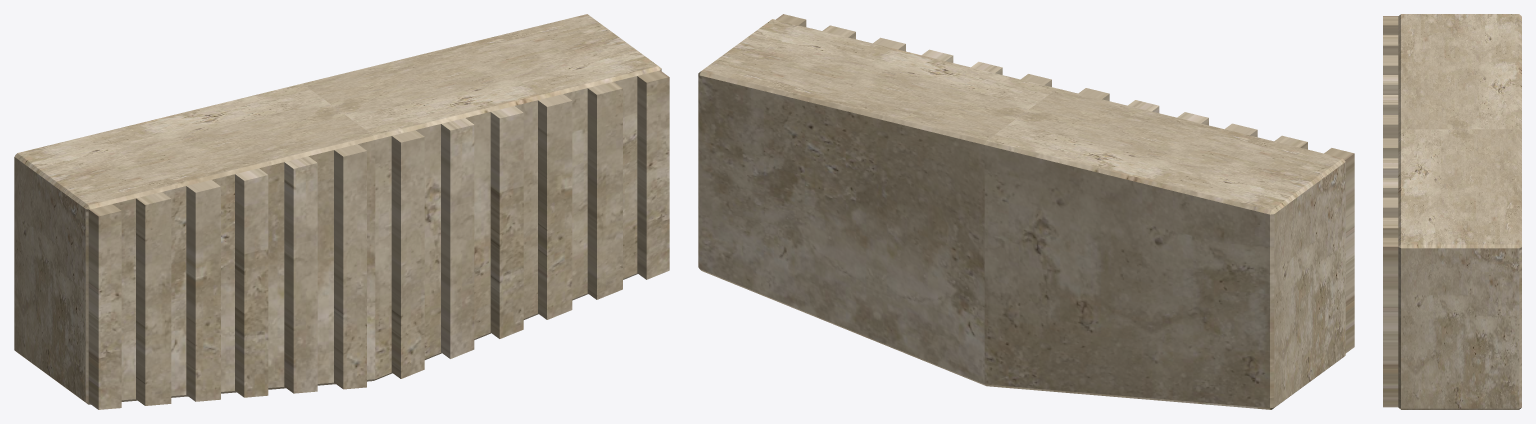
Rendered from roof_face_middle.FBX.
3 renders of one model, left to right at view 1: azimuth 30°, elevation 25°; view 2: azimuth 150°, elevation 25°; view 3: azimuth 270°, elevation 25°, orthographic. The views are drawn at different scales.
Parts seen in each view (by area): view 1: Box318; view 2: Box318; view 3: Box318.
Boxes of the visible parts, x1,y1,x2,y2 form: Box318: (14, 14, 669, 409); Box318: (698, 14, 1354, 409); Box318: (1383, 14, 1521, 409).
Size of the model in its own units: 200 by 81.29 by 50.34.
